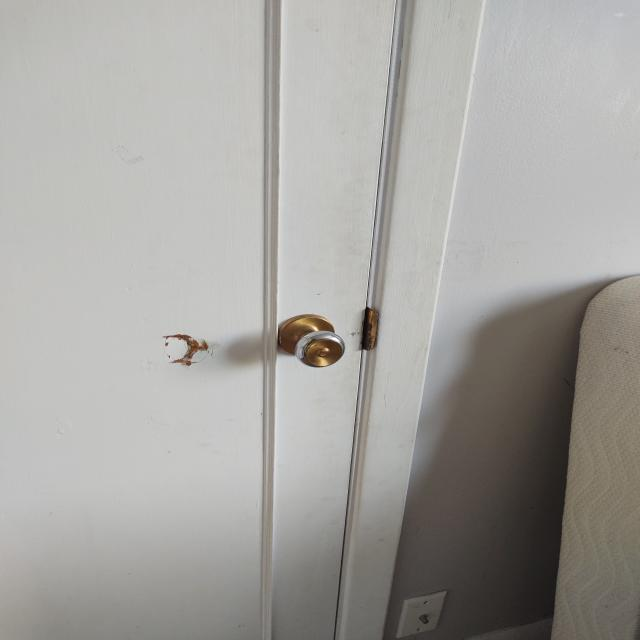door-knob: (279, 315, 344, 368)
